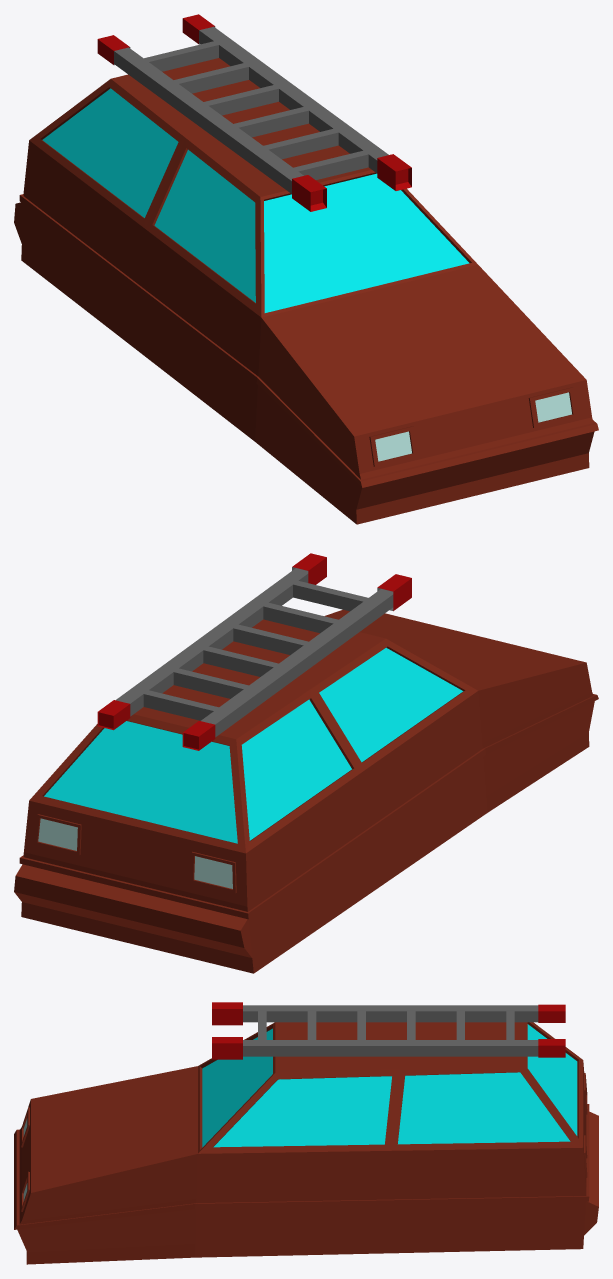
Rendered from uno.fbx.
The picture shows the model from 3 angles, top to bottom: view 1: azimuth 30°, elevation 25°; view 2: azimuth 150°, elevation 25°; view 3: azimuth 270°, elevation 25°; orthographic projection. The views are drawn at different scales.
Parts seen in each view (by area): view 1: Cube, Cube.001; view 2: Cube, Cube.001; view 3: Cube, Cube.001.
Part boxes in pixels (x1=…): Cube: x1=14, y1=58, x2=598, y2=524; Cube.001: x1=97, y1=14, x2=411, y2=211; Cube: x1=14, y1=609, x2=598, y2=973; Cube.001: x1=97, y1=553, x2=411, y2=750; Cube: x1=14, y1=1022, x2=598, y2=1264; Cube.001: x1=212, y1=1002, x2=565, y2=1059.
Bounding box in the file's own units: 131 × 124 × 337.
